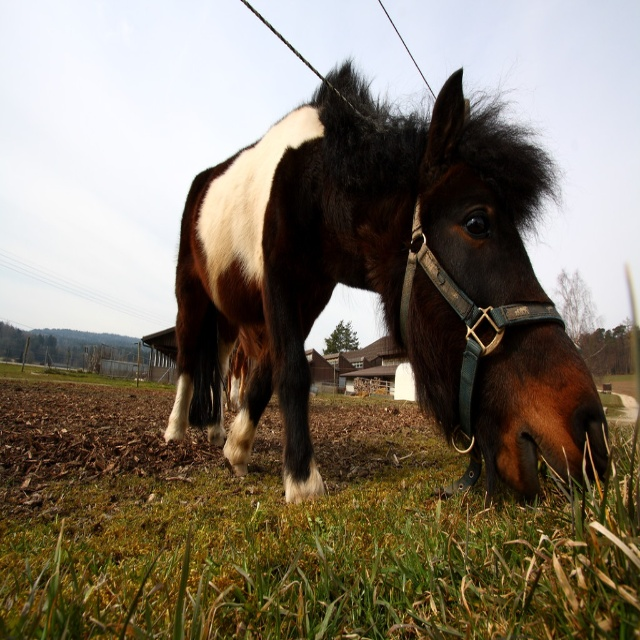Horse: (164, 53, 611, 505)
